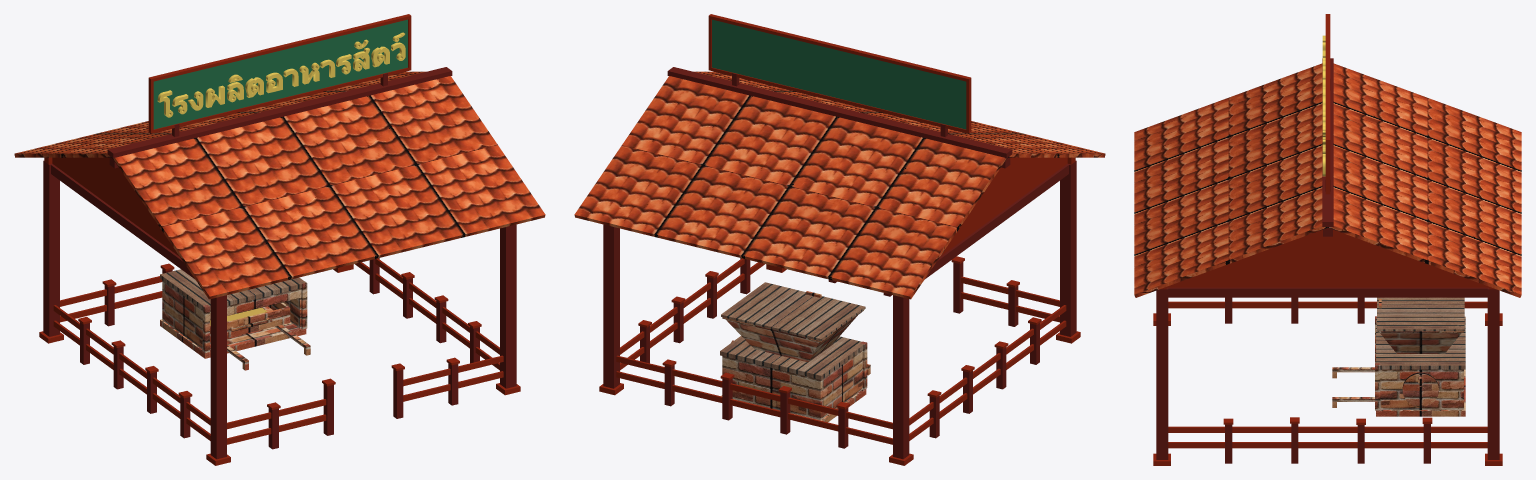
File: Animal feed making machine.glb
3 views of the same model, side by side, from view 1: azimuth 30°, elevation 25°; view 2: azimuth 150°, elevation 25°; view 3: azimuth 270°, elevation 25° (orthographic).
Parts seen in each view (by area): view 1: Roof_Panels, Roof_Frame, Fence_Wood, Roof_Sign, Machine_Body, Roof_Sign_Text, Trough_Mesh; view 2: Roof_Panels, Roof_Sign, Fence_Wood, Roof_Frame, Machine_Body, Hopper_Lid; view 3: Roof_Panels, Roof_Frame, Fence_Wood, Machine_Body, Hopper_Lid, Roof_Sign, Machine_Flywheel, Roof_Sign_Text.
Boxes of the visible parts, box(x1,y1,x2,y2) form: Roof_Panels: box(14, 67, 545, 299); Roof_Frame: box(39, 157, 520, 465); Fence_Wood: box(53, 258, 503, 449); Roof_Sign: box(148, 14, 411, 136); Machine_Body: box(160, 269, 310, 370); Roof_Sign_Text: box(157, 32, 405, 117); Trough_Mesh: box(210, 302, 290, 342); Roof_Panels: box(574, 67, 1105, 299); Roof_Sign: box(708, 14, 971, 136); Fence_Wood: box(616, 256, 1066, 448); Roof_Frame: box(599, 157, 1080, 465); Machine_Body: box(720, 310, 870, 422); Hopper_Lid: box(721, 282, 865, 340); Roof_Panels: box(1134, 58, 1521, 297); Roof_Frame: box(1153, 228, 1502, 465); Fence_Wood: box(1168, 297, 1487, 463); Machine_Body: box(1332, 316, 1465, 416); Hopper_Lid: box(1377, 297, 1464, 331); Roof_Sign: box(1325, 14, 1330, 194); Machine_Flywheel: box(1402, 372, 1438, 406); Roof_Sign_Text: box(1322, 35, 1325, 176).
Bounding box in the file's own units: 9.36 × 8.39 × 9.35.
Materials: 9 (3 with a texture image).
